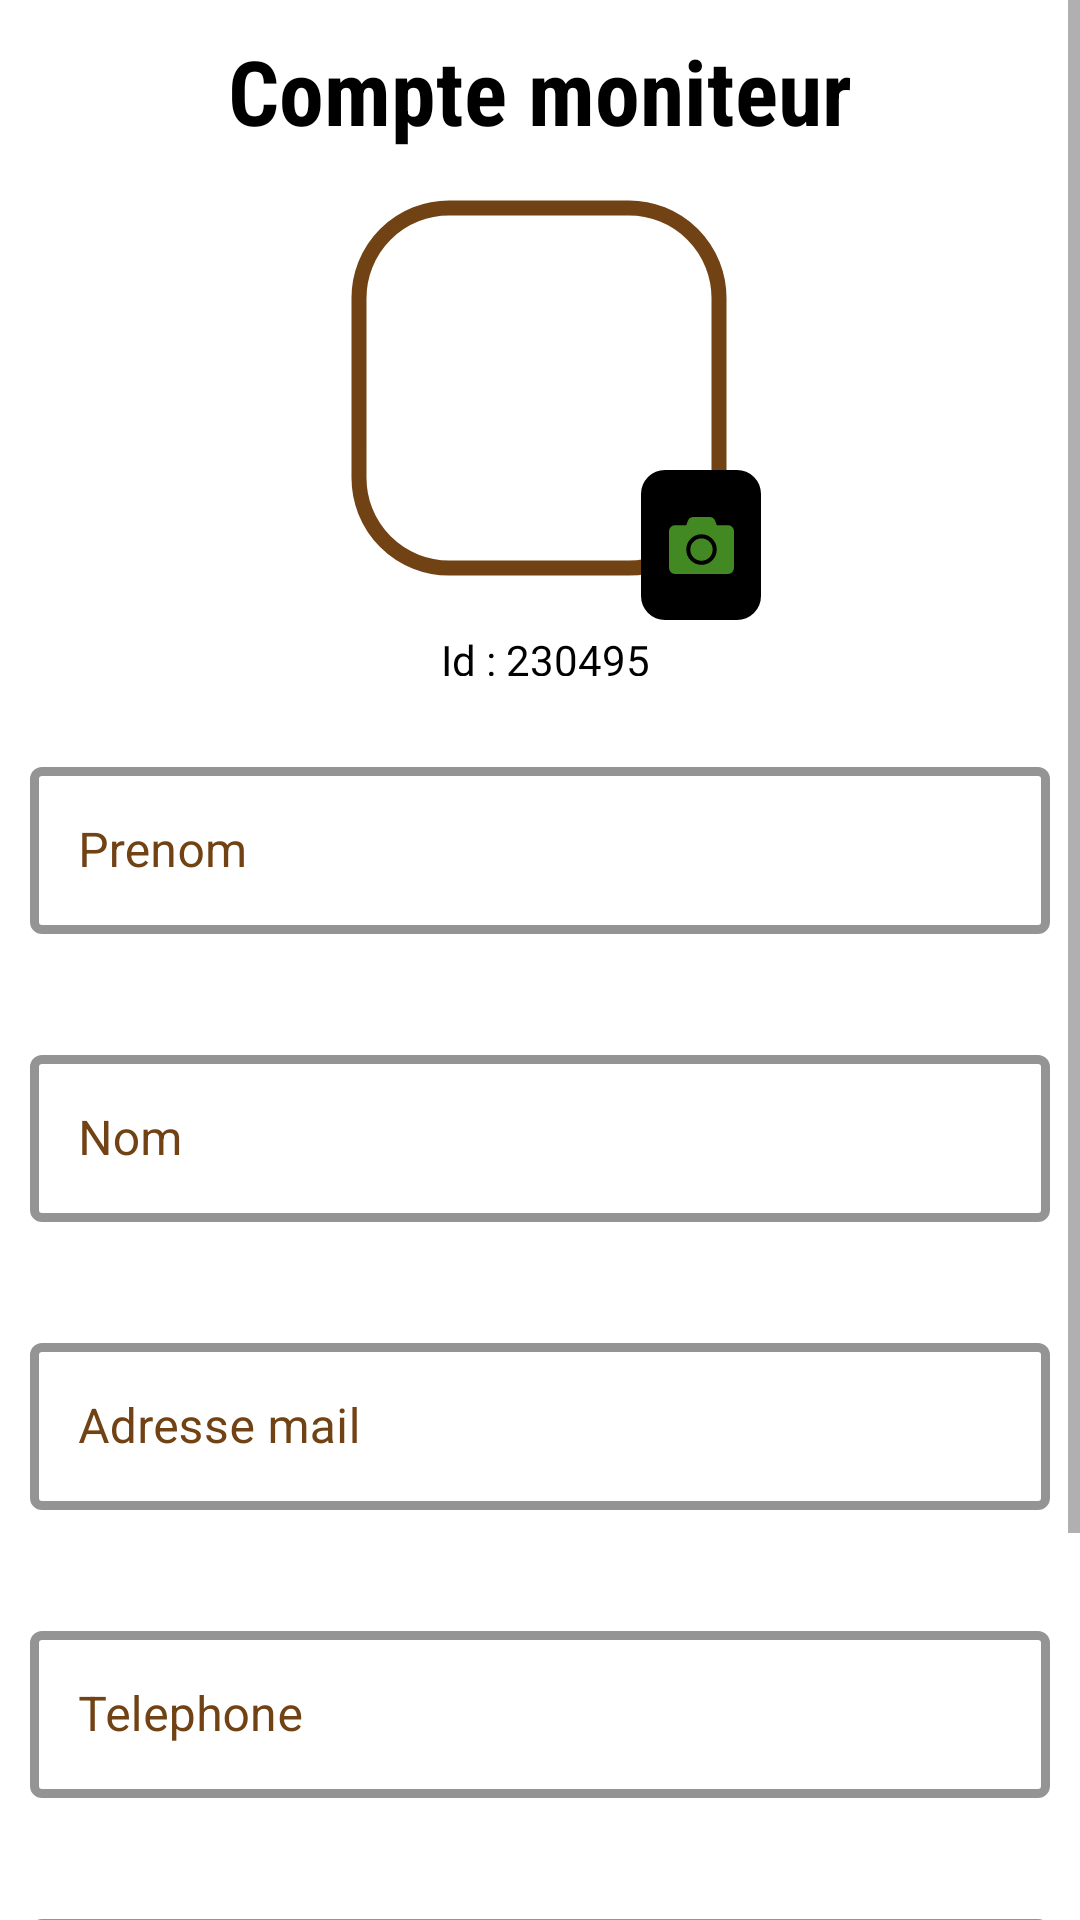

Locate icon controls on the screen. Image size 1080*1920, boxes as (x1, y1, x2, y2).
camera: (641, 470, 761, 620)
